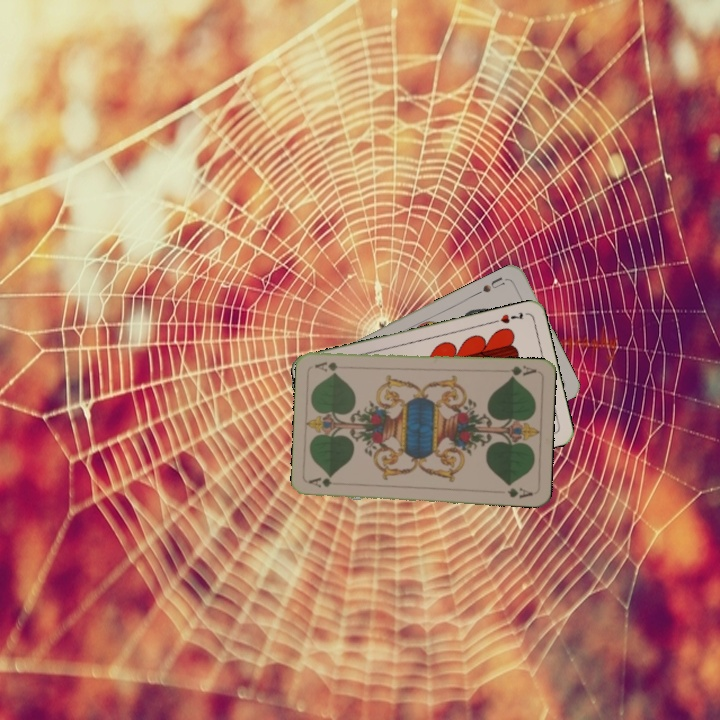GA: (506, 361, 539, 381), (306, 474, 346, 490)
H7: (489, 308, 526, 326)
SU: (478, 273, 507, 295)
